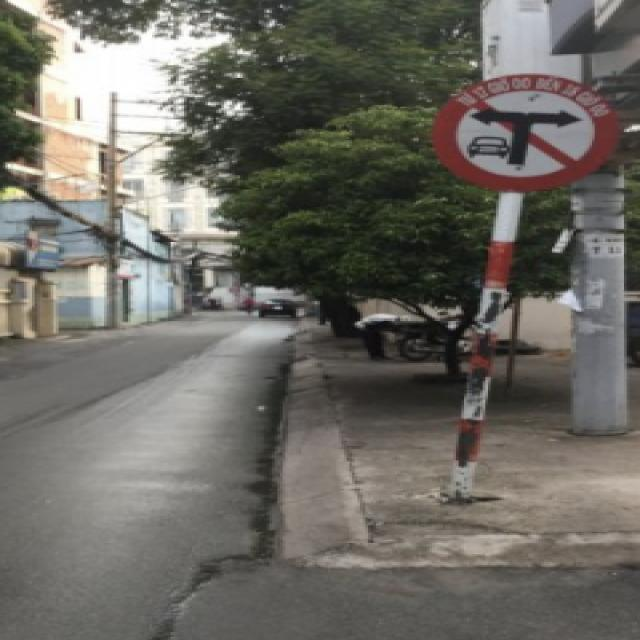137-cam-re-trai-va-re-phai: (437, 72, 616, 192)
